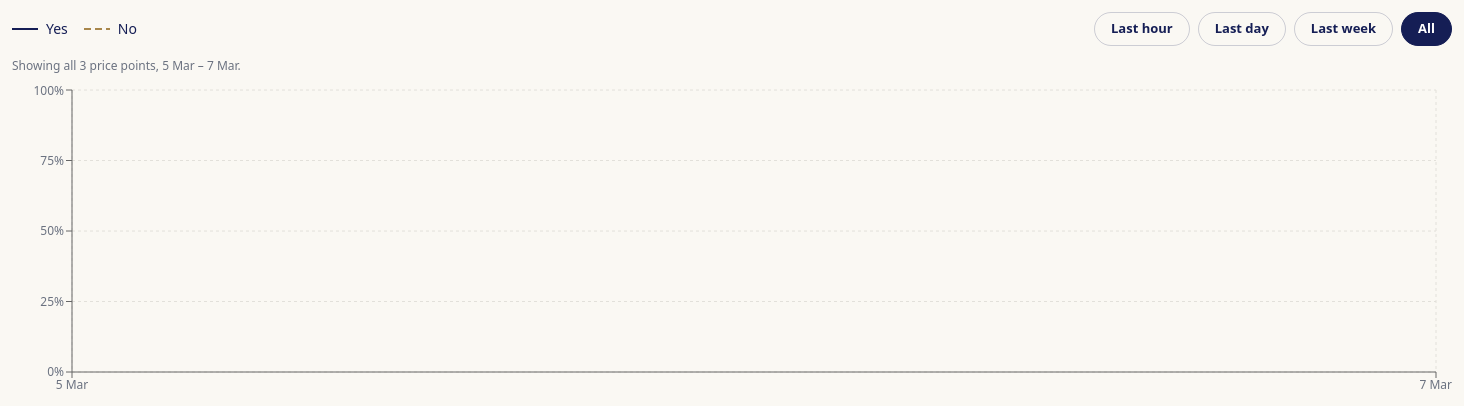
Test case: PriceHistoryChart › narrows the chart to the chosen time range, measured back from the last trade
Expected: the text "Showing all 3 price points, 5 Mar – 7 Mar." is shown, x1=12 y1=56 x2=241 y2=74
Click the button "Last hour". click: click(1142, 29)
box: x1=1094 y1=12 x2=1190 y2=46
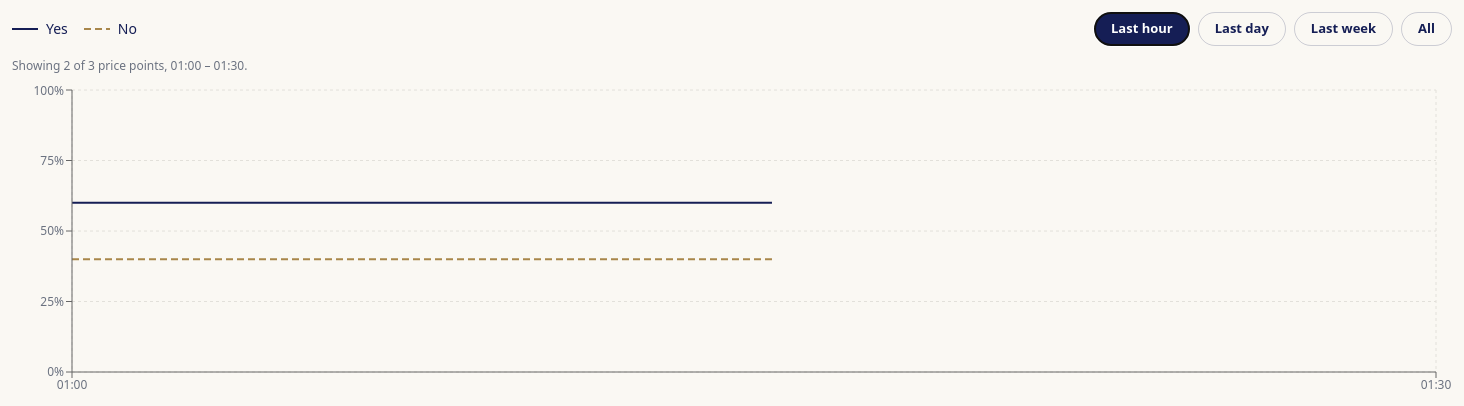
Expected: the text "Showing 2 of 3 price points, 01:00 – 01:30." is shown, x1=12 y1=56 x2=247 y2=74
